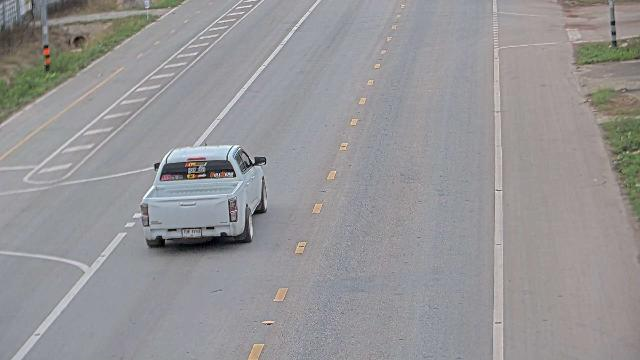pickup-truck: (139, 143, 268, 248)
